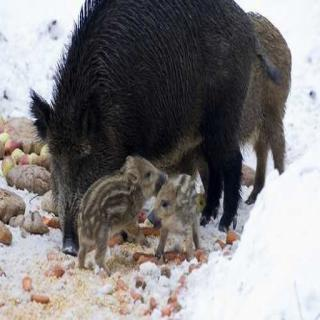Pig: (14, 0, 254, 250), (80, 144, 162, 278), (150, 169, 220, 276)
